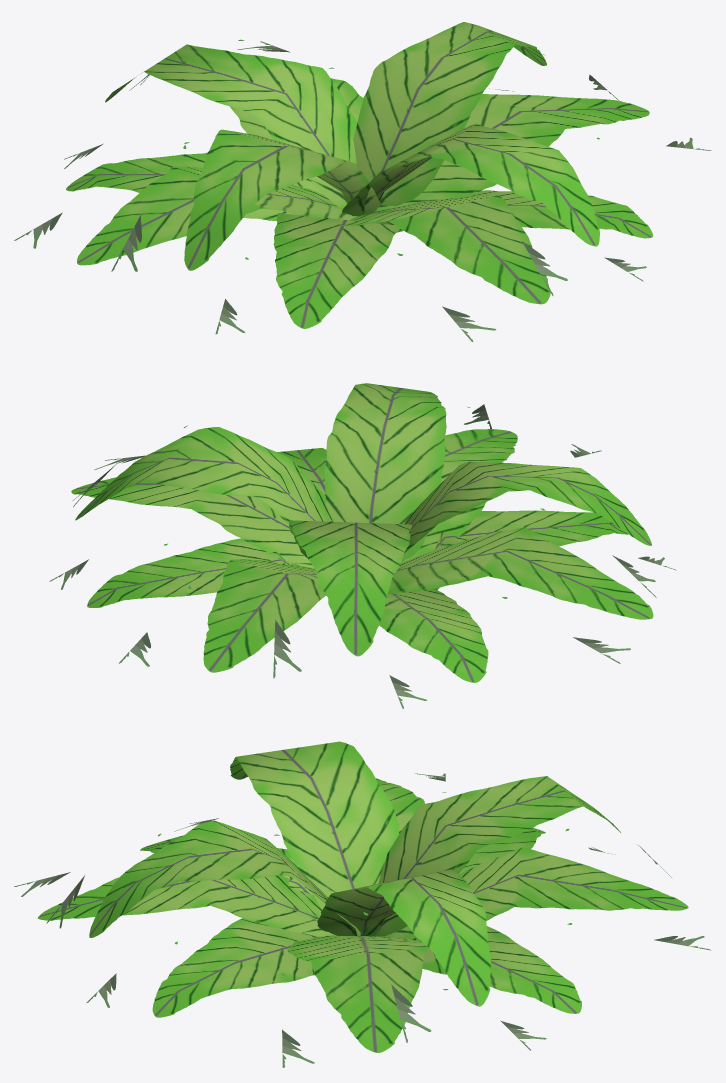
Rendered from regularFern.fbx.
3 renders of one model, top to bottom at view 1: azimuth 30°, elevation 25°; view 2: azimuth 150°, elevation 25°; view 3: azimuth 270°, elevation 25°, orthographic. The views are drawn at different scales.
Parts seen in each view (by area): view 1: leaves; view 2: leaves; view 3: leaves.
Part boxes in pixels (<box>): leaves: <box>14,22,711,341</box>; leaves: <box>49,383,676,708</box>; leaves: <box>14,741,711,1067</box>.
Bounding box in the file's own units: 253 × 56.46 × 248.
